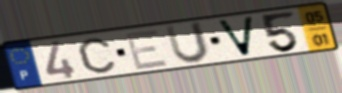4: (43, 38, 79, 82)
5: (258, 10, 301, 54)
C: (76, 36, 118, 75)
E: (123, 27, 171, 72)
U: (162, 20, 212, 66)
V: (214, 15, 257, 58)
